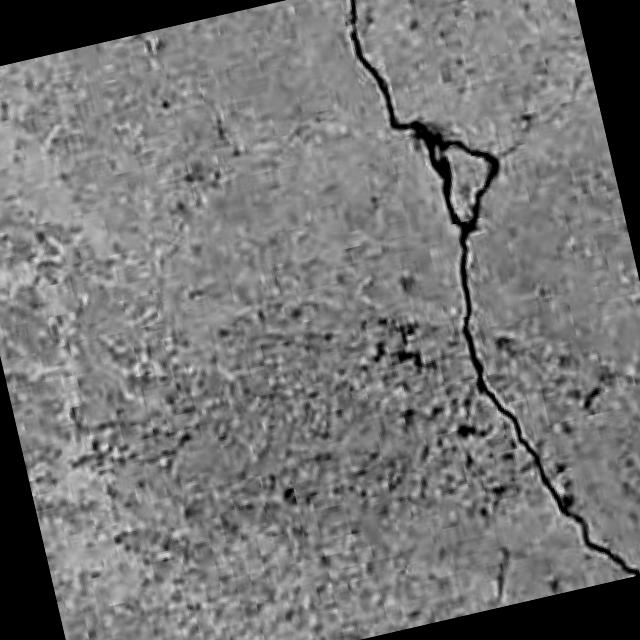crack: (346, 0, 639, 576)
